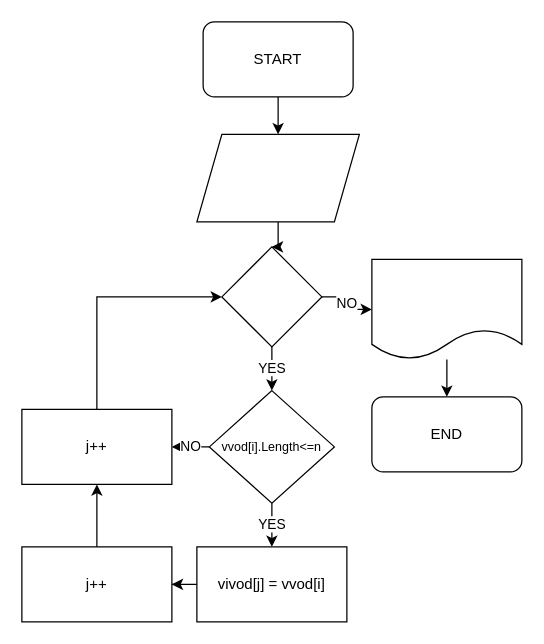
Image size: 544x644. Some labels were removed from this diagram. Here are the shapes that lost their labels. From the top down, the centre of each, then its label:
At point 277,177: "string[] vvod string[] vivod int i = 0 int j = 0 int n = 3".
At point 271,296: "i<vvod.Length".
At point 446,308: "vivod".
